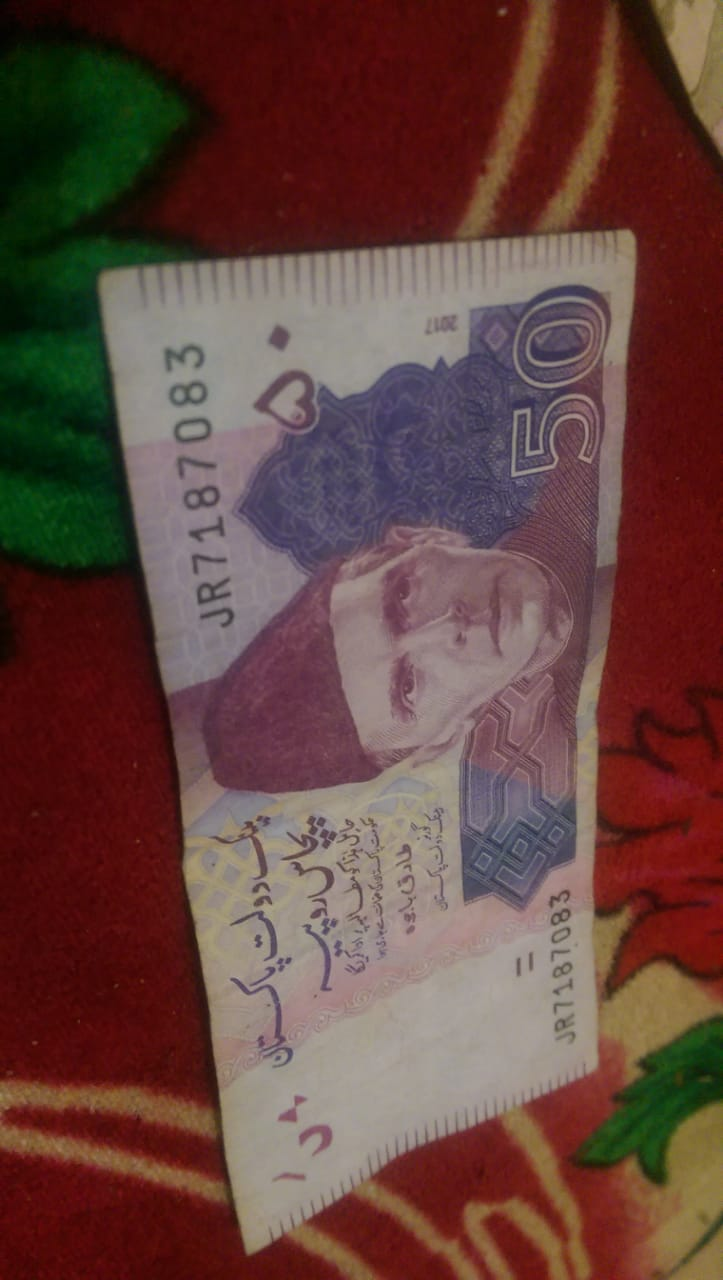50 rupee: (97, 215, 667, 1280)
